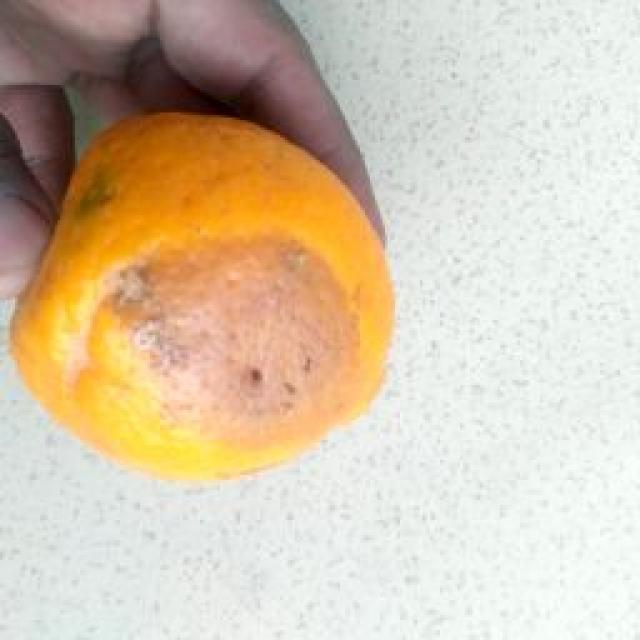Bad_Orange: (11, 116, 392, 478)
